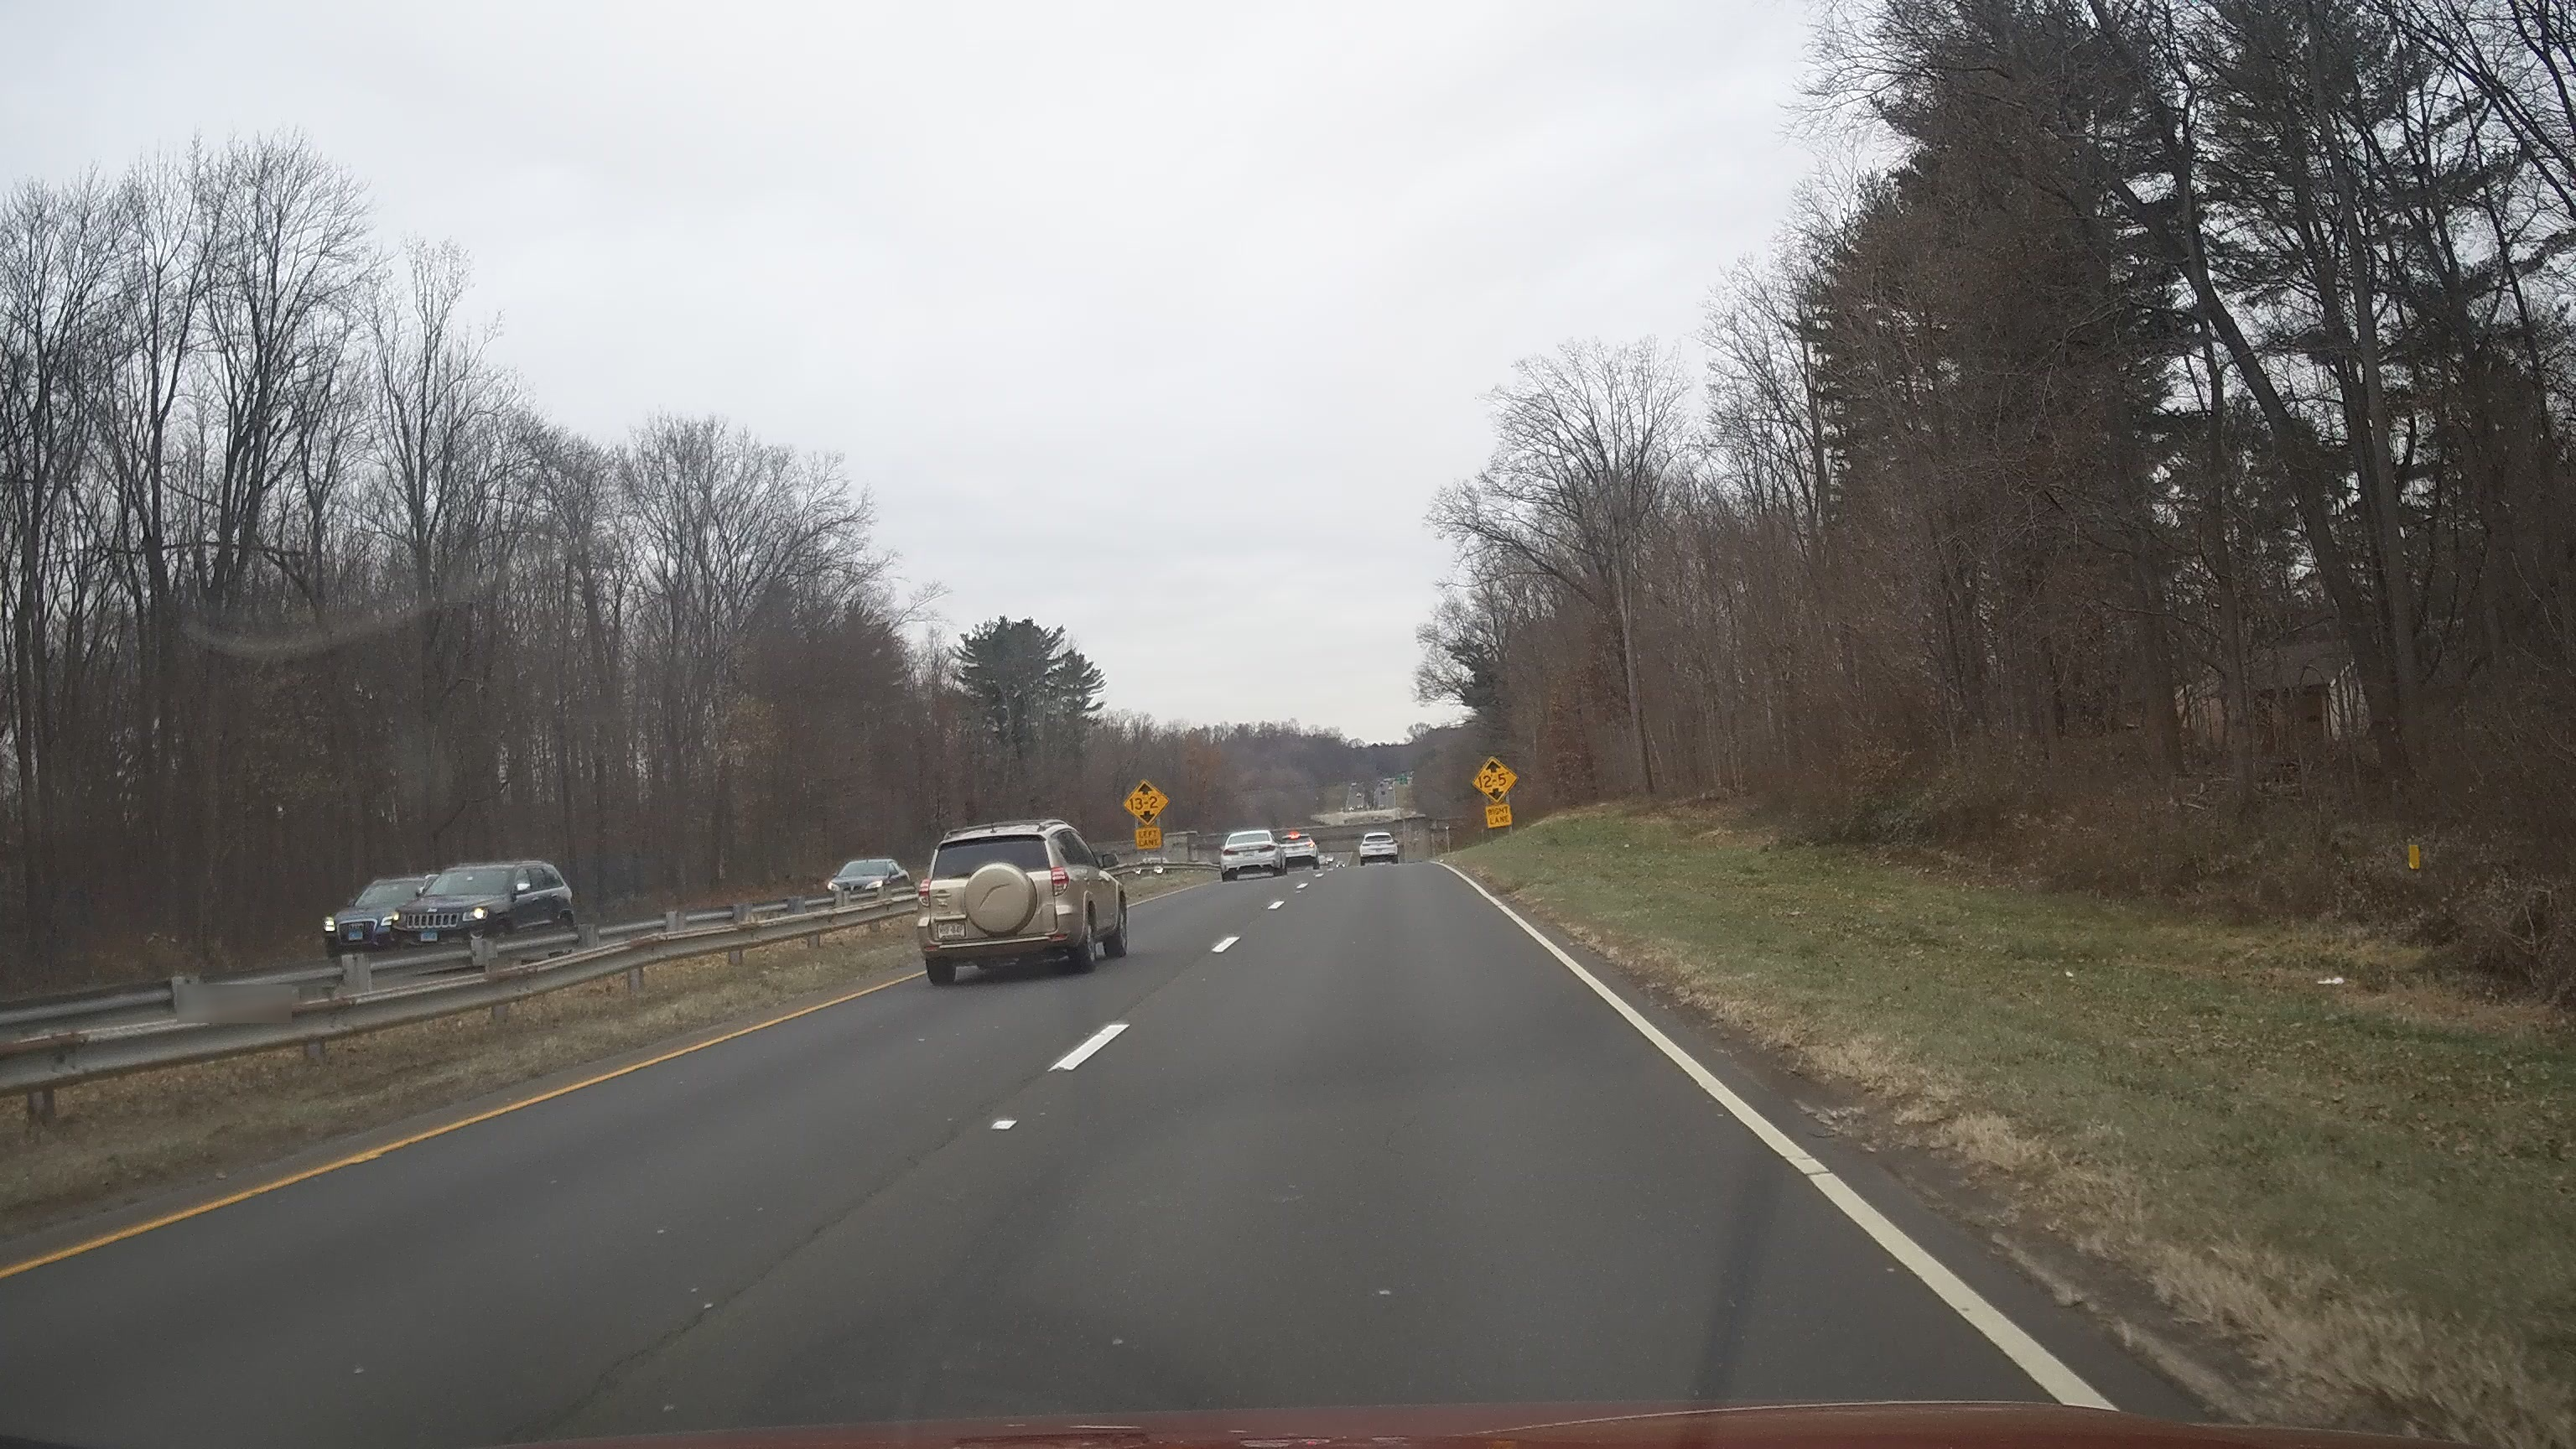low-clearance-sign: (1122, 778, 1171, 828), (1470, 755, 1520, 805)
